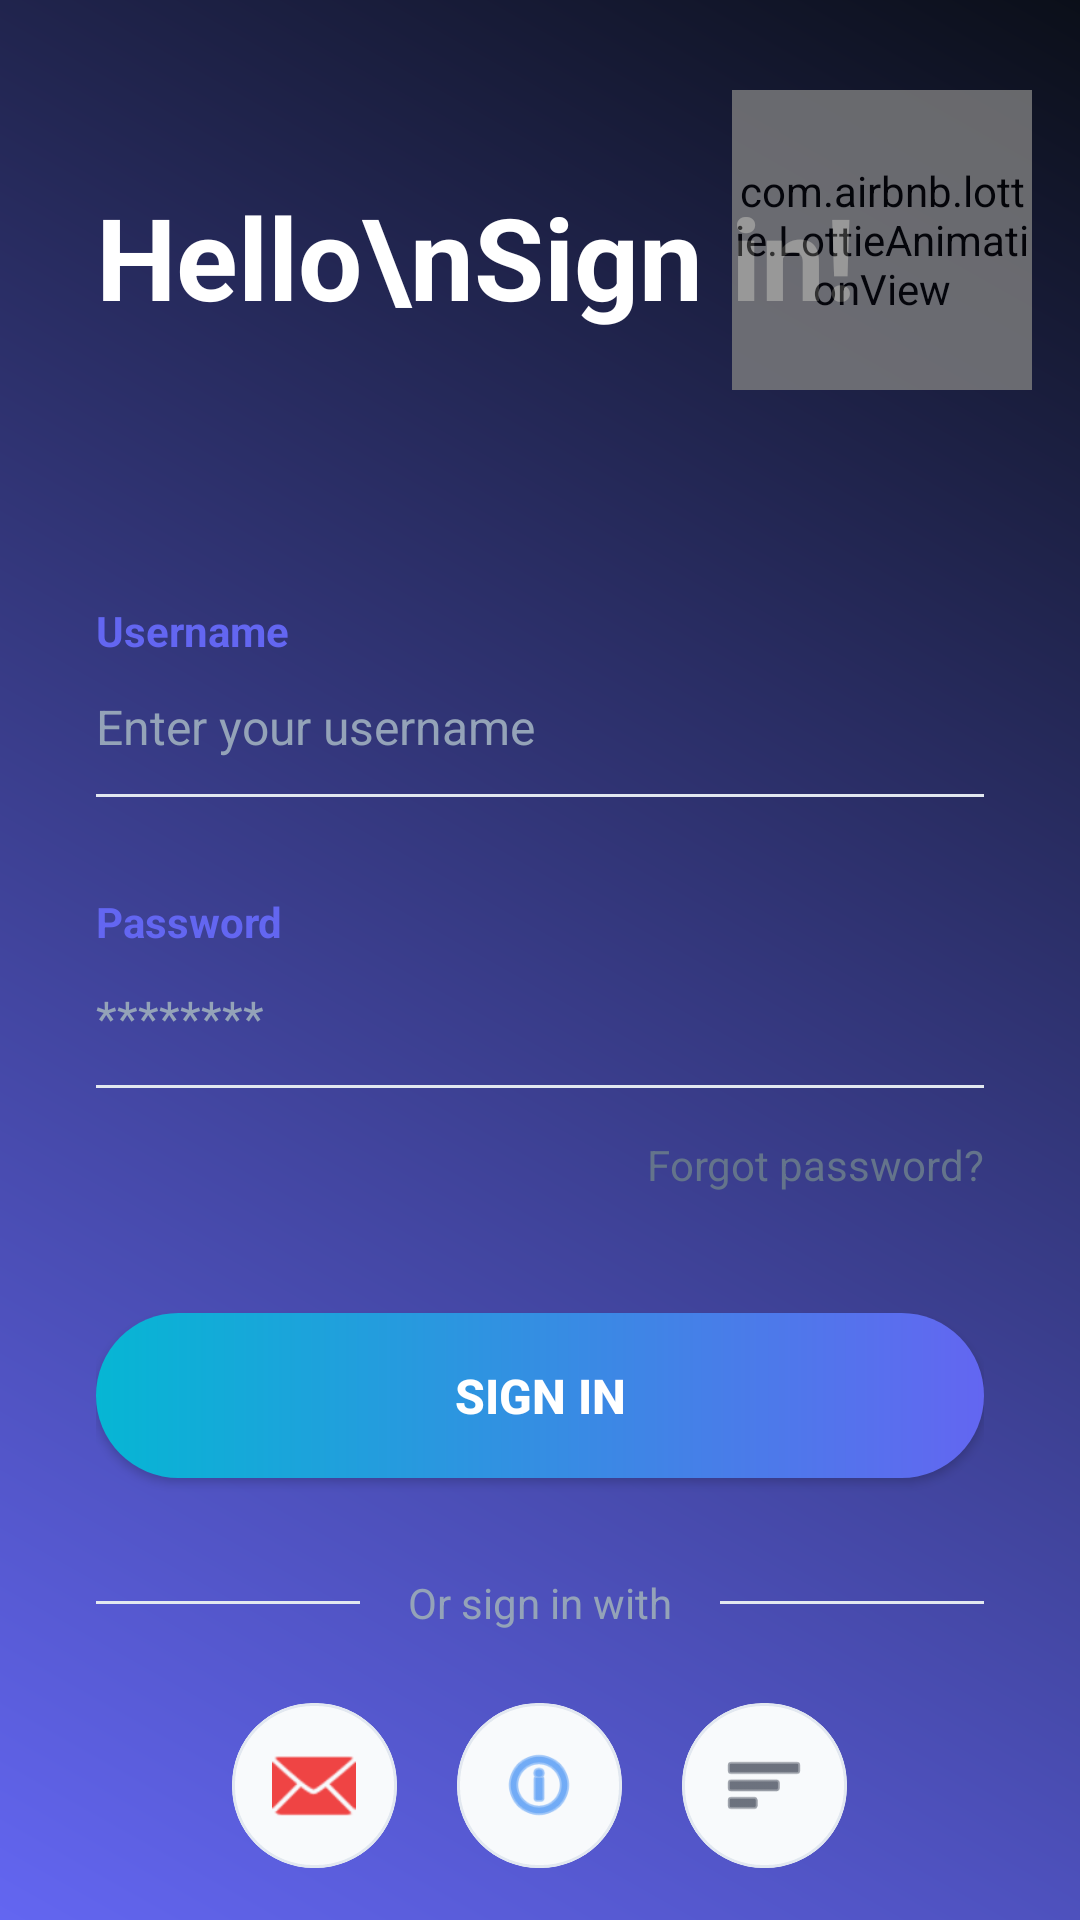

Screen size 1080*1920. Icon name, then its center in pixels as (x,y):
email: (314,1786)
info details: (539,1785)
sort by size: (764,1785)
